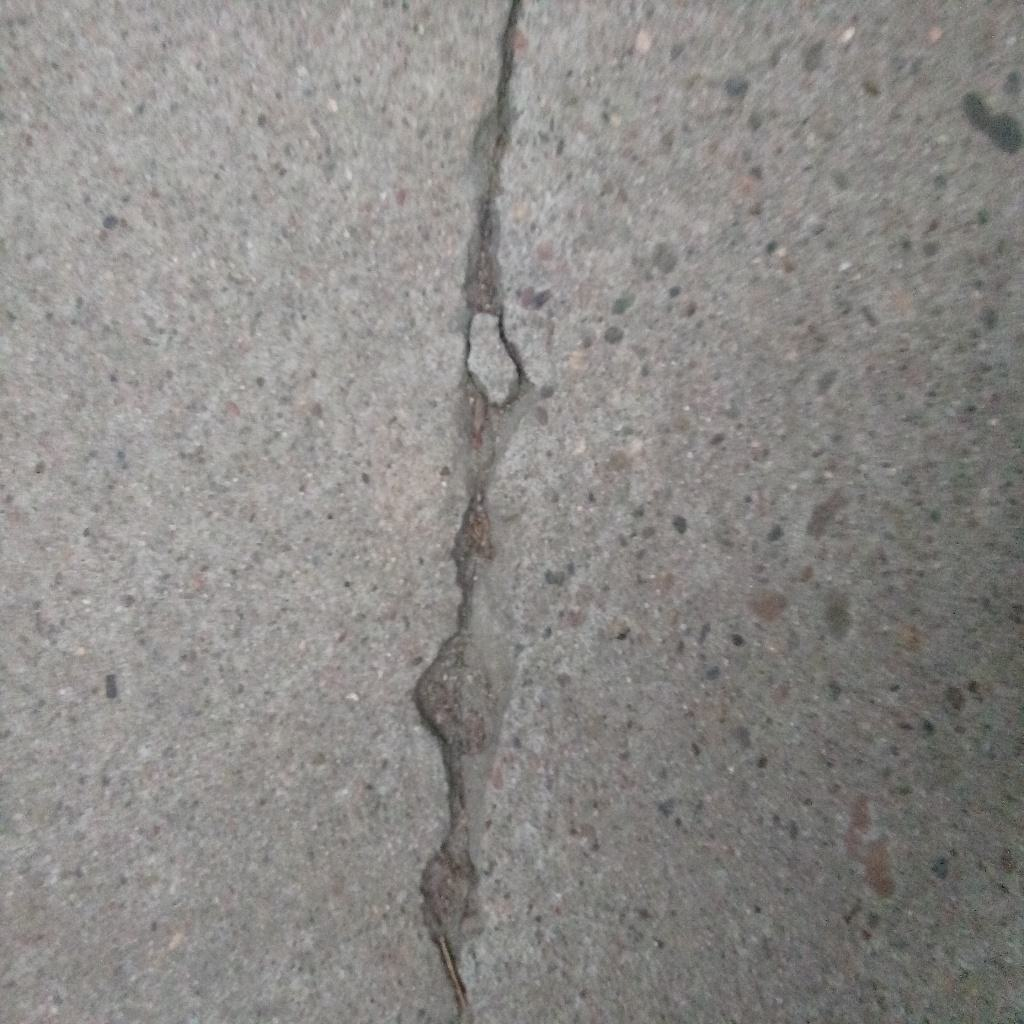Crack: (413, 1, 537, 1024)
